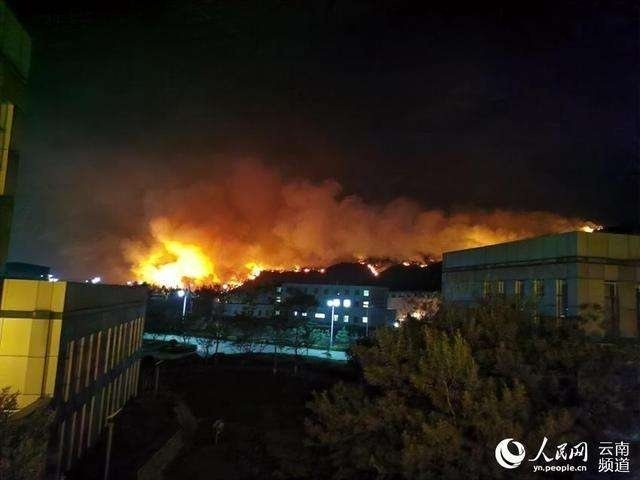fire: (130, 238, 274, 289)
